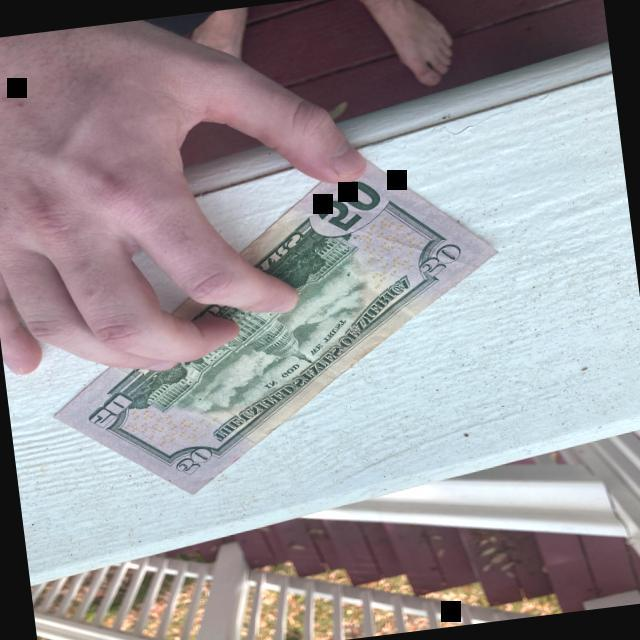fifty: (56, 153, 499, 495)
